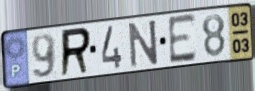4: (101, 24, 124, 70)
8: (200, 11, 227, 59)
9: (30, 33, 59, 80)
E: (166, 12, 198, 66)
N: (127, 18, 160, 70)
R: (59, 25, 93, 79)
